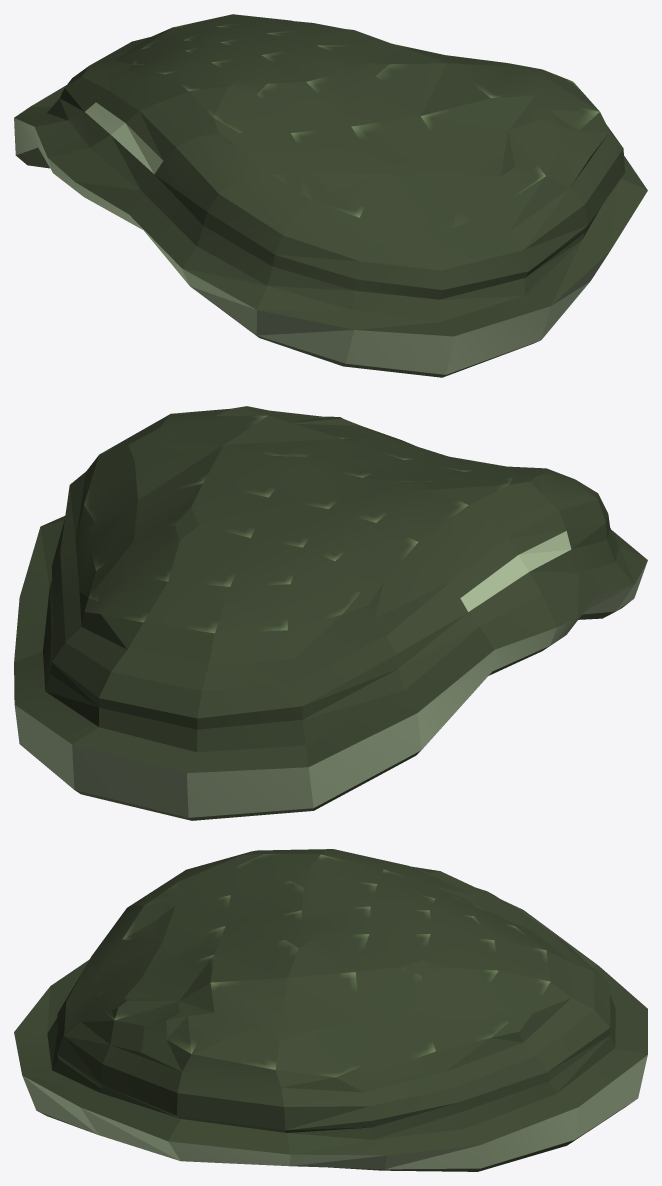
The model's file is EA_Swamp_Fungus_01c.glb.
The picture shows the model from 3 angles, top to bottom: view 1: azimuth 30°, elevation 25°; view 2: azimuth 150°, elevation 25°; view 3: azimuth 270°, elevation 25°; orthographic projection. The views are drawn at different scales.
Visible parts, largest first — view 1: EA_Swamp_Fungus_01c; view 2: EA_Swamp_Fungus_01c; view 3: EA_Swamp_Fungus_01c.
Boxes of the visible parts, box(x1,y1,x2,y2) form: EA_Swamp_Fungus_01c: box(14, 14, 647, 377); EA_Swamp_Fungus_01c: box(14, 406, 647, 820); EA_Swamp_Fungus_01c: box(14, 849, 647, 1171).
Size of the model in its own units: 1.03 by 0.3781 by 1.19.
Materials: 1 (1 with a texture image).
